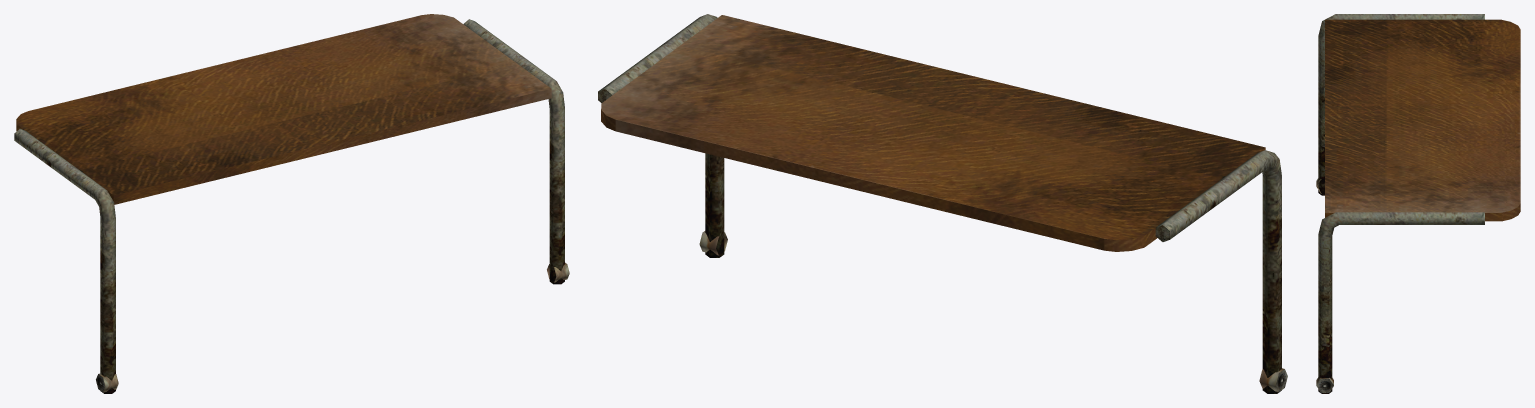
File: hbed01_part01_obj_uni17_ag.obj
3 views of the same model, side by side, from view 1: azimuth 30°, elevation 25°; view 2: azimuth 150°, elevation 25°; view 3: azimuth 270°, elevation 25° (orthographic). The views are drawn at different scales.
Visible parts, largest first — view 1: hbed01_part01_obj_uni17_ag; view 2: hbed01_part01_obj_uni17_ag; view 3: hbed01_part01_obj_uni17_ag.
Part boxes in pixels (bbox=[...]): hbed01_part01_obj_uni17_ag: bbox=[14, 14, 569, 393]; hbed01_part01_obj_uni17_ag: bbox=[598, 14, 1287, 393]; hbed01_part01_obj_uni17_ag: bbox=[1316, 14, 1520, 393].
Bounding box in the file's own units: 104 × 42.5 × 43.89.
1 material, 1 textured.
